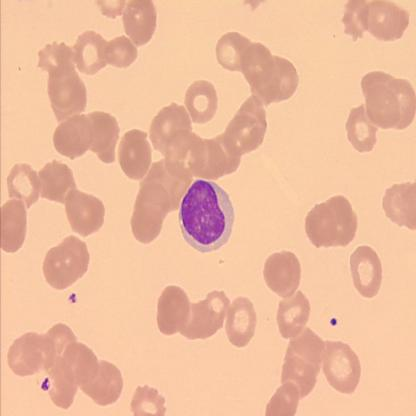Lymphocyte: (178, 179, 233, 252)
